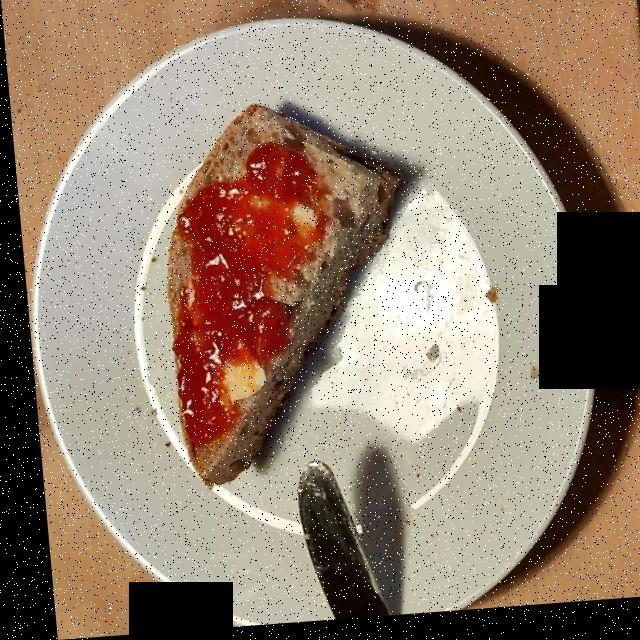bread: (161, 116, 389, 480)
butter: (211, 357, 261, 430)
jam: (178, 134, 314, 437)
